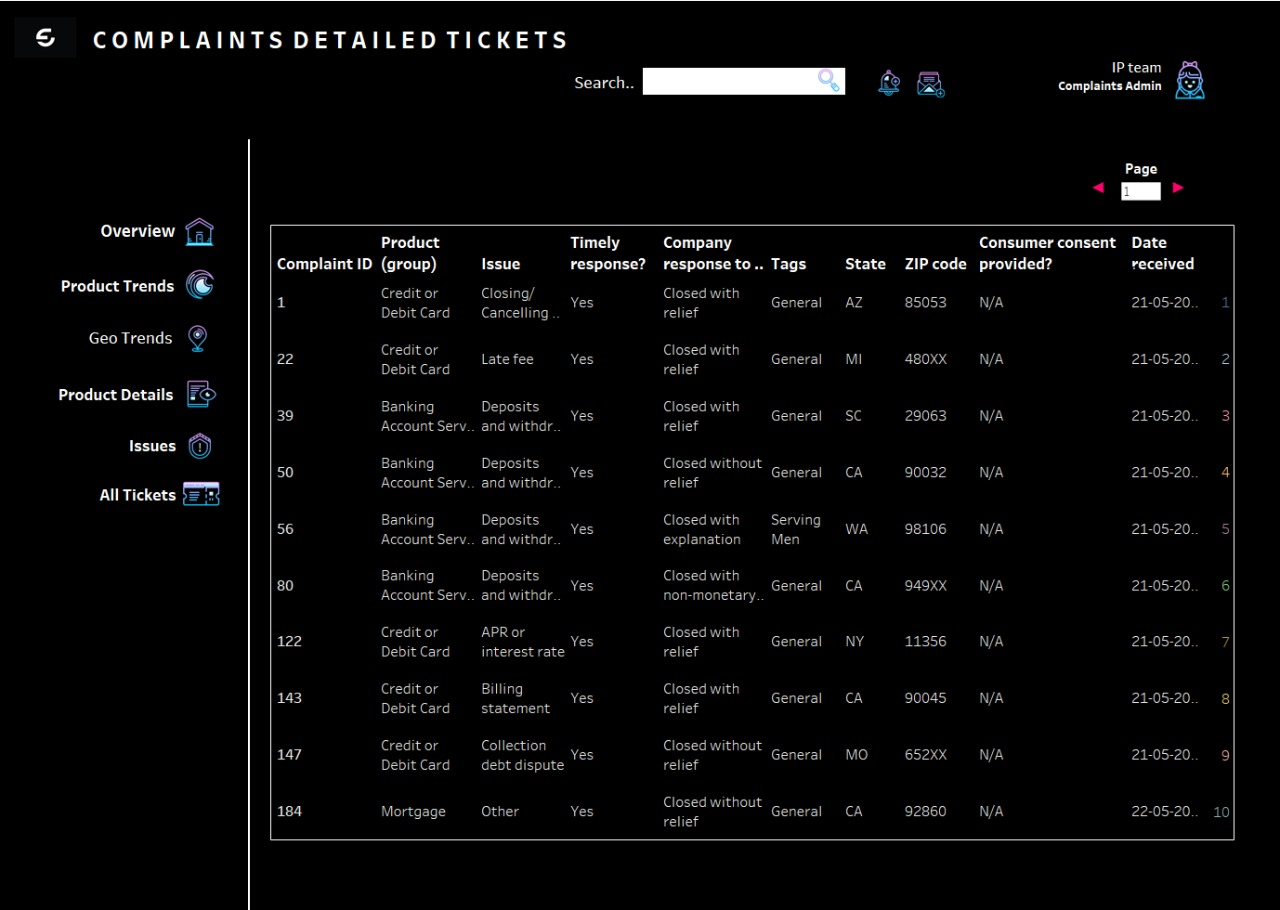

Layout of this report page (visuals, bound fields, positions):
{"tool":"tableau","page":{"name":"Tickets","canvas":[1400,1000],"ordinal":5},"visuals":[{"type":"image","param":"Image/360_F_396950188_ydxRS4NYfG9m2hhmGrhLL0HtvlkpDrM2.jpg","box":[23,25,67,55]},{"type":"text","box":[99,26,529,45]},{"type":"text","box":[1090,68,172,41]},{"type":"image","param":"Image/icons8-businesswoman-64.png","box":[1264,68,50,50]},{"type":"image","param":"Image/icons8-search-more-64.png","box":[885,78,43,30]},{"type":"image","param":"Image/icons8-add-reminder-64.png","box":[948,78,34,37]},{"type":"text","box":[623,80,100,30]},{"type":"image","param":"Image/icons8-add-mail-64.png","box":[994,81,32,31]},{"type":"parameter","param":"[Parameters].[Parameter 2]","box":[1212,178,49,52]},{"type":"worksheet","title":"Left Arrow","mark":"Automatic","box":[1167,185,45,45]},{"type":"worksheet","title":"Right Arrow","mark":"Automatic","box":[1254,185,45,45]},{"type":"dashboard-object","box":[204,236,37,42]},{"type":"text","box":[100,240,100,30]},{"type":"worksheet","title":"Table","mark":"Automatic","rows":["Complaint ID","Issue","Timely response?","Company response to consumer","Tags","State","ZIP code","Consumer consent provided?","Date received"],"box":[299,249,1038,663]},{"type":"text","box":[1222,284,100,30]},{"type":"dashboard-object","box":[204,294,39,38]},{"type":"text","box":[68,299,131,30]},{"type":"dashboard-object","box":[203,351,35,42]},{"type":"text","box":[97,355,100,30]},{"type":"dashboard-object","box":[206,407,38,50]},{"type":"text","box":[67,416,131,30]},{"type":"dashboard-object","box":[206,468,34,38]},{"type":"text","box":[101,471,100,30]},{"type":"dashboard-object","box":[202,517,44,43]},{"type":"text","box":[101,524,100,30]}]}

Visuals, with their boxes in screenshot pixels (x1, y1, x2, y2), scaled from the page's 1400x1000 canvas onto the 1280x910 screenshot:
image: detection(21, 23, 82, 73)
text: detection(91, 24, 574, 65)
text: detection(997, 62, 1154, 99)
image: detection(1156, 62, 1201, 107)
image: detection(809, 71, 848, 98)
image: detection(867, 71, 898, 105)
text: detection(570, 73, 661, 100)
image: detection(909, 74, 938, 102)
parameter: detection(1108, 162, 1153, 209)
"Left Arrow" worksheet: detection(1067, 168, 1108, 209)
"Right Arrow" worksheet: detection(1147, 168, 1188, 209)
dashboard-object: detection(187, 215, 220, 253)
text: detection(91, 218, 183, 246)
"Table" worksheet: detection(273, 227, 1222, 830)
text: detection(1117, 258, 1209, 286)
dashboard-object: detection(187, 268, 222, 302)
text: detection(62, 272, 182, 299)
dashboard-object: detection(186, 319, 218, 358)
text: detection(89, 323, 180, 350)
dashboard-object: detection(188, 370, 223, 416)
text: detection(61, 379, 181, 406)
dashboard-object: detection(188, 426, 219, 460)
text: detection(92, 429, 184, 456)
dashboard-object: detection(185, 470, 225, 510)
text: detection(92, 477, 184, 504)
